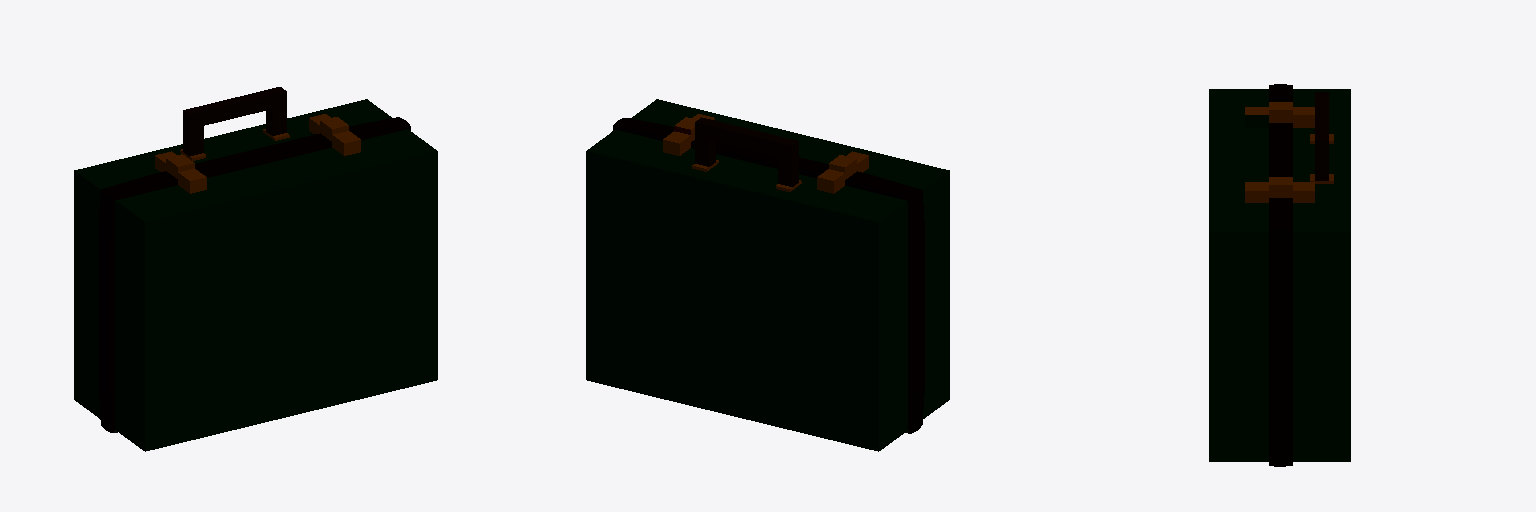
Rendered from valiseverte.obj.
The picture shows the model from 3 angles: view 1: azimuth 30°, elevation 25°; view 2: azimuth 150°, elevation 25°; view 3: azimuth 270°, elevation 25°; orthographic projection.
Visible parts, largest first — view 1: pCube1; view 2: pCube1; view 3: pCube1.
Boxes of the visible parts, <box> form: pCube1: <box>74,87,437,451</box>; pCube1: <box>586,99,949,451</box>; pCube1: <box>1209,84,1350,466</box>.
Bounding box in the file's own units: 5.98 × 5.28 × 2.41.